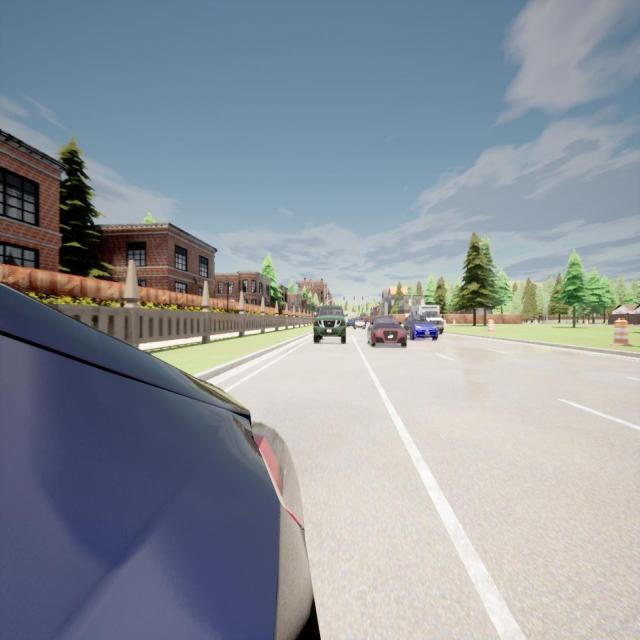Vehicle: (0, 284, 320, 638), (312, 304, 346, 342), (368, 317, 407, 348), (409, 304, 447, 332), (404, 314, 440, 341), (354, 316, 366, 332), (347, 318, 353, 327)
traffic_light: (361, 294, 364, 302), (353, 295, 355, 302), (343, 295, 345, 301)
